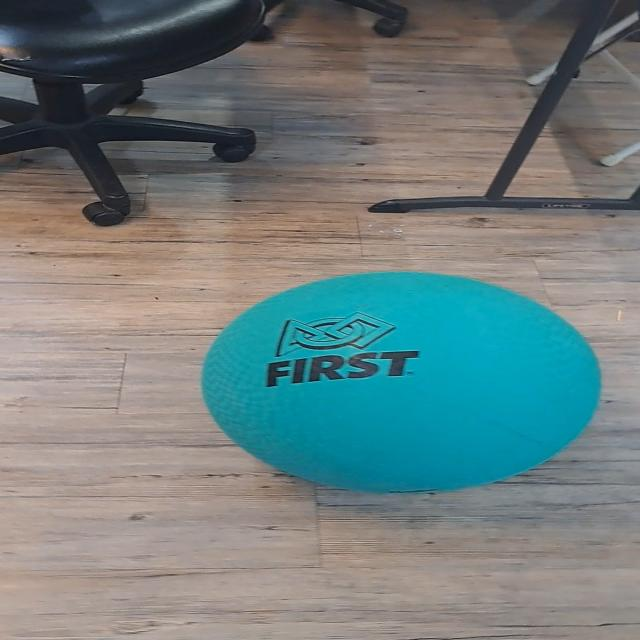ALGAE: (197, 269, 603, 495)
